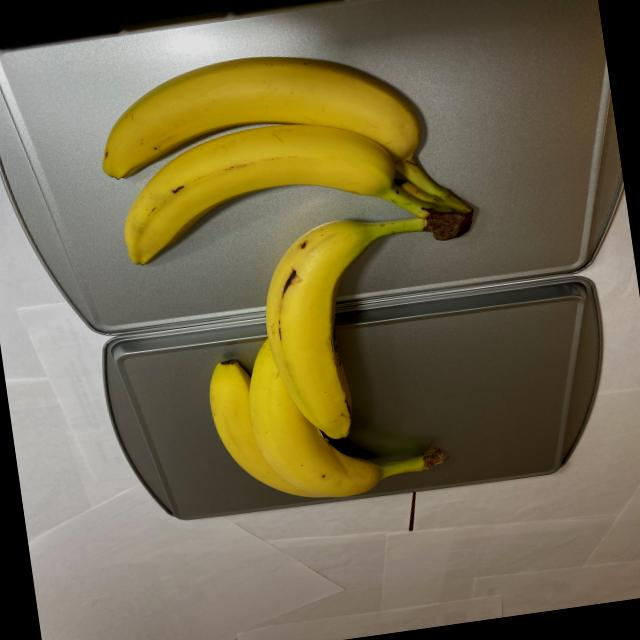banana: (77, 24, 510, 522)
